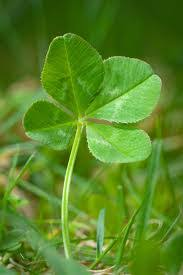4-clover: (22, 34, 156, 162)
